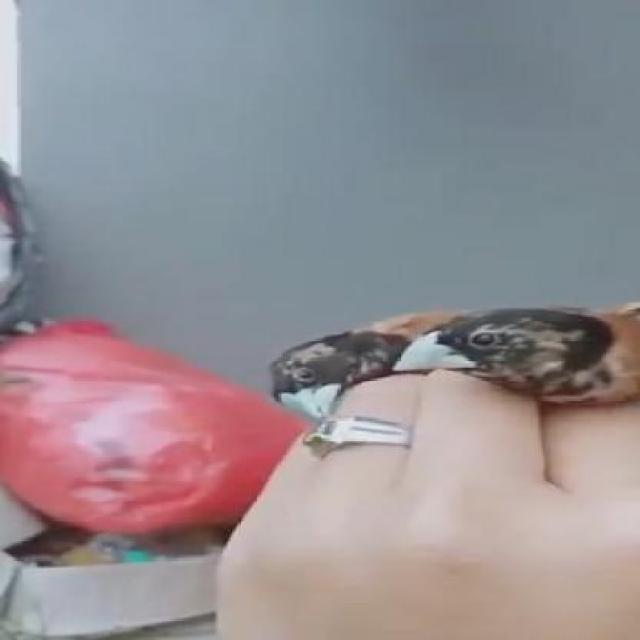Bird: (408, 302, 639, 444), (248, 314, 452, 419)
